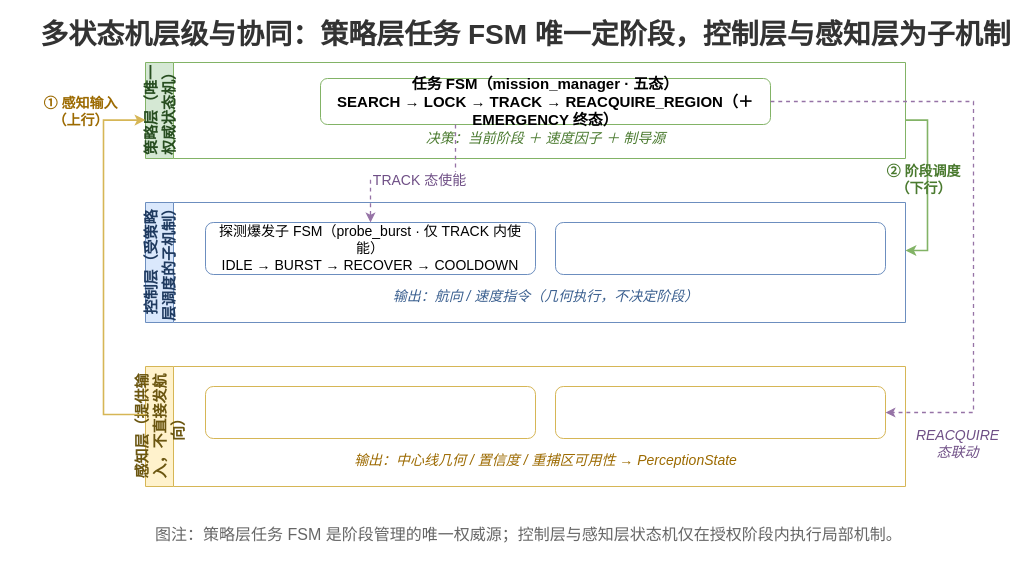
Image size: 1028x583. Some labels were removed from this diagram. Here are the shapes that lost their labels. From the top down, the centre of each, then its label:
(720,248): 控制器内子模式（无名） 翻腿 · 解耦横向 · 磁穿越探测 · 前视追踪
(370,412): 局部路径状态（local_path） COLLECTING · LINE · CURVE · REACQUIRE
(720,412): 重捕区选择（ObservableRegionSelector） 有界候选 ＋ 打分
